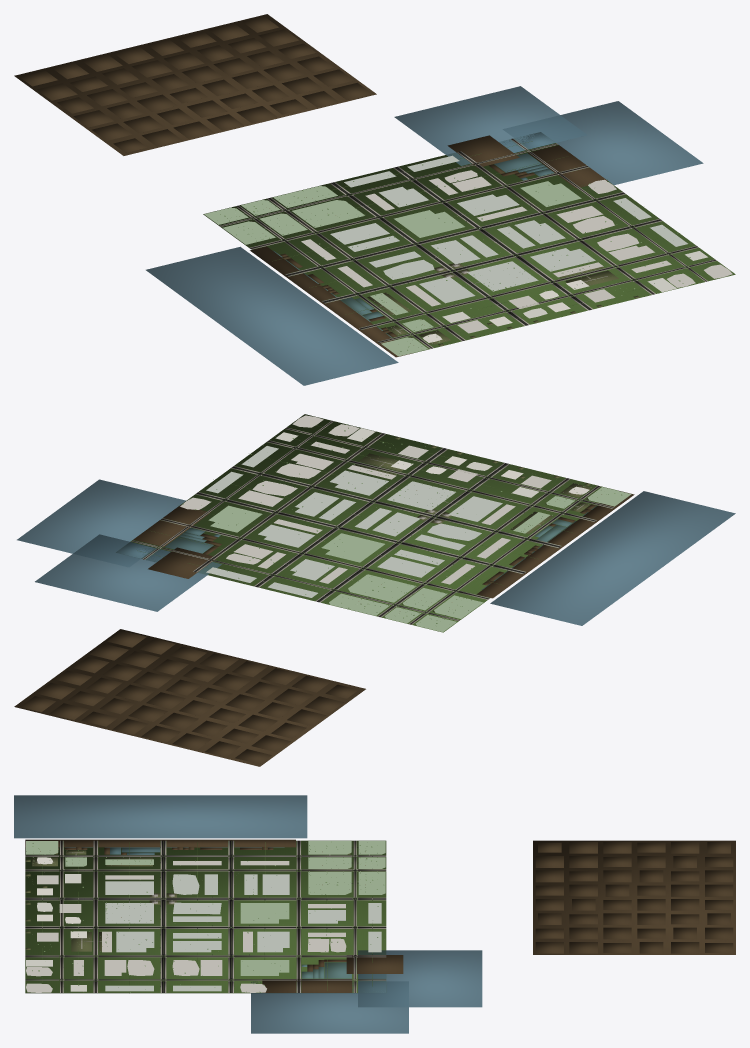
Rendered from agentspace-world.glb.
The picture shows the model from 3 angles, top to bottom: view 1: azimuth 30°, elevation 25°; view 2: azimuth 150°, elevation 25°; view 3: azimuth 270°, elevation 25°; orthographic projection. The views are drawn at different scales.
Parts seen in each view (by area): view 1: TerrainCampus, OceanWest, LandPreviewBase, OceanHarbour, OceanMarsh, CoastWest, CoastHarbour, land-campus-1, park-southpark-5, CoastMarsh, park-parklands-3, land-creative-2 (+11 smaller); view 2: TerrainCampus, OceanWest, LandPreviewBase, OceanHarbour, OceanMarsh, CoastWest, CoastHarbour, land-campus-1, CoastMarsh, park-southpark-5, park-parklands-3, land-creative-2 (+11 smaller); view 3: TerrainCampus, OceanWest, LandPreviewBase, OceanHarbour, OceanMarsh, CoastWest, CoastHarbour, land-campus-1, CoastMarsh, park-parklands-3, park-southpark-5, land-creative-2 (+15 smaller).
Part boxes in pixels (x1,y1,x2,y2): TerrainCampus: [203, 138, 735, 353]; OceanWest: [146, 246, 398, 385]; LandPreviewBase: [14, 14, 376, 155]; OceanHarbour: [503, 101, 703, 187]; OceanMarsh: [394, 86, 587, 165]; CoastWest: [250, 246, 412, 357]; CoastHarbour: [528, 145, 607, 188]; land-campus-1: [467, 261, 538, 291]; park-southpark-5: [292, 200, 364, 227]; CoastMarsh: [447, 135, 519, 167]; park-parklands-3: [394, 210, 464, 237]; land-creative-2: [530, 248, 595, 271]; TerrainCampus: [130, 414, 617, 632]; OceanWest: [490, 491, 735, 625]; LandPreviewBase: [14, 629, 365, 766]; OceanHarbour: [17, 479, 185, 566]; OceanMarsh: [35, 534, 221, 611]; CoastWest: [476, 490, 634, 598]; CoastHarbour: [133, 505, 210, 546]; land-campus-1: [387, 481, 455, 510]; CoastMarsh: [148, 547, 217, 578]; park-southpark-5: [348, 574, 416, 602]; park-parklands-3: [321, 533, 384, 562]; land-creative-2: [330, 470, 388, 495]; TerrainCampus: [25, 840, 386, 993]; OceanWest: [14, 795, 307, 838]; LandPreviewBase: [533, 840, 735, 954]; OceanHarbour: [251, 981, 408, 1033]; OceanMarsh: [358, 950, 482, 1007]; CoastWest: [25, 839, 295, 847]; CoastHarbour: [262, 979, 352, 992]; land-campus-1: [105, 903, 153, 923]; CoastMarsh: [346, 955, 403, 973]; park-parklands-3: [240, 903, 289, 923]; park-southpark-5: [308, 872, 351, 894]; land-creative-2: [116, 931, 154, 952].
Bounding box in the file's own units: 3200 × 9.54 × 4096.
26 materials, 11 textured.
